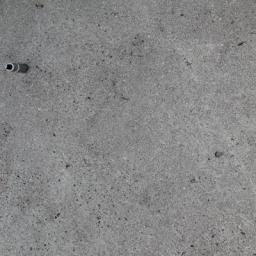FOD: (1, 59, 33, 80)
